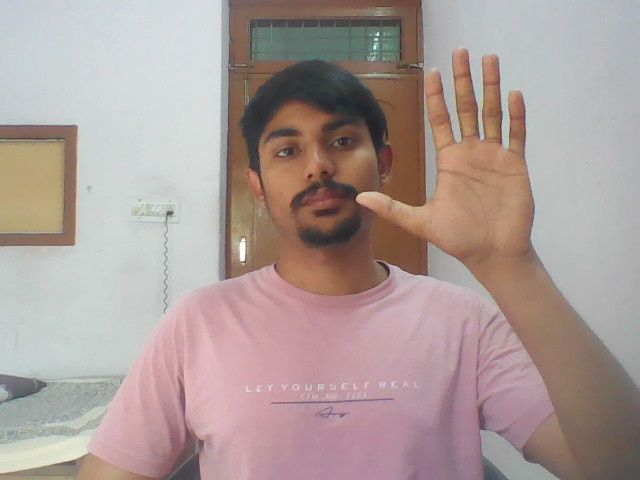Hello: (353, 38, 544, 266)
